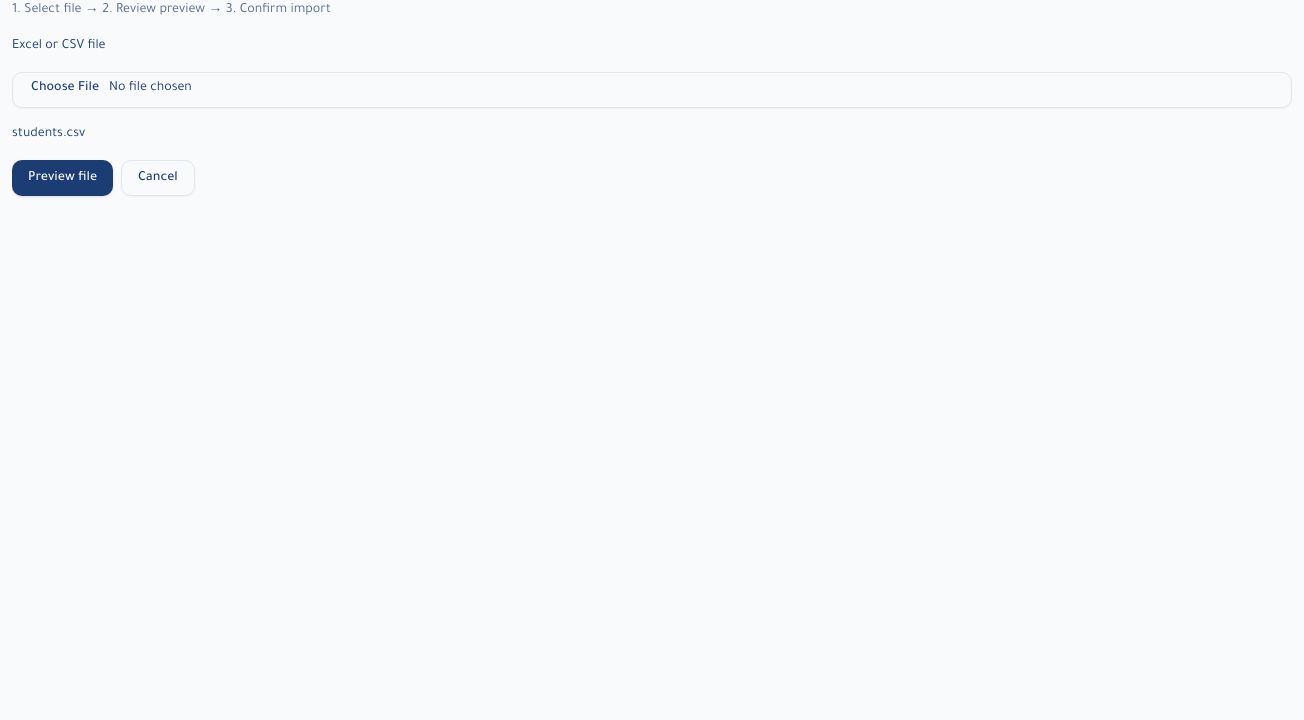
Scenario: mandatory external import review › blocks for a row error outside the visible page and for global errors regardless of can_confirm
This screenshot has width=1304, height=720.
Earlier steps of the test are not shown.
Click the button "Preview file".
click(63, 178)  # box [12, 160, 113, 196]
(page scrolled)
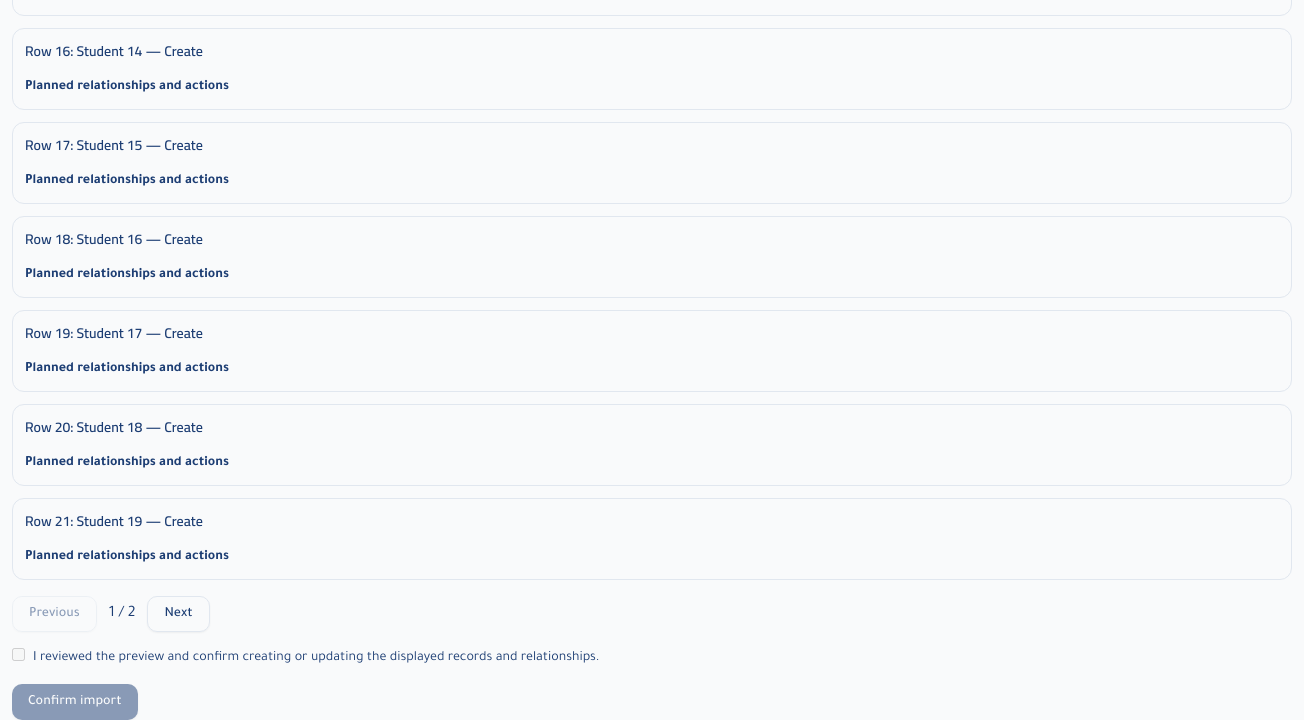
Expected: the text "bad identity" is not shown
Result: the button "Confirm import" is disabled at [12, 684, 138, 719]
Click the button "Next".
click(179, 614)  # box [147, 596, 210, 632]
(page scrolled)
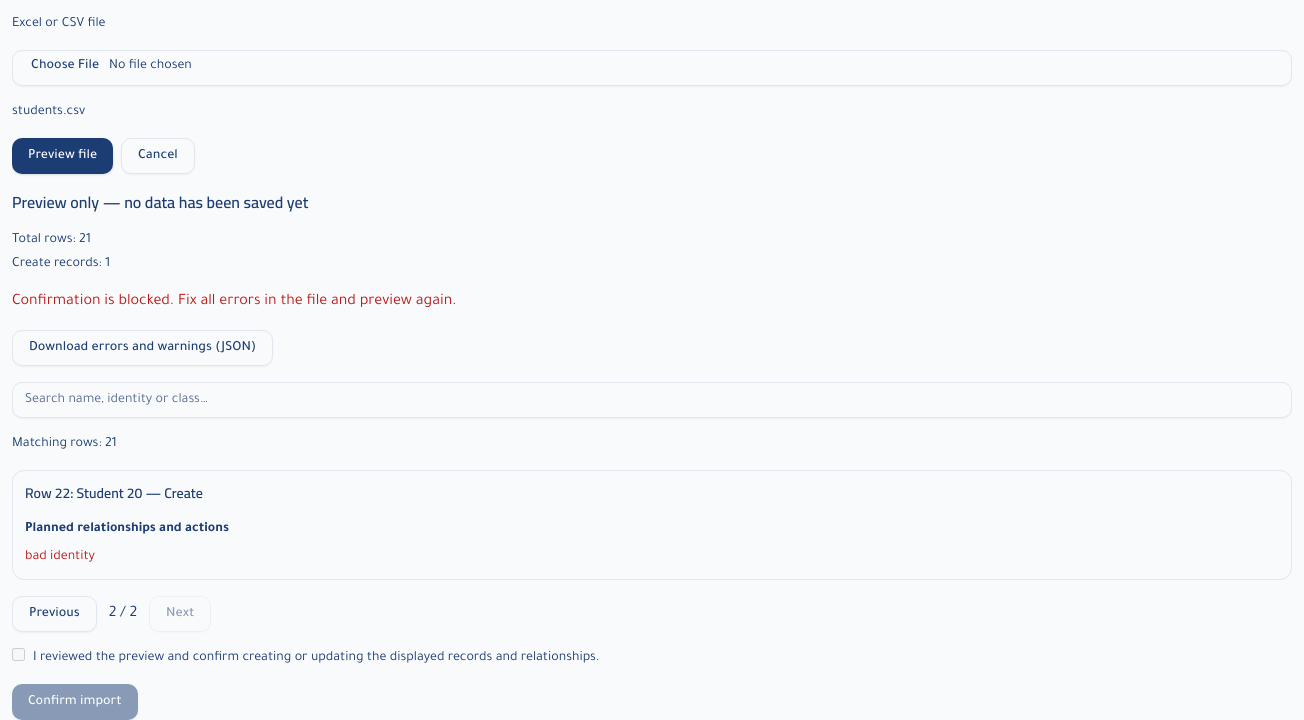
Result: the text "bad identity" is shown at [25, 550, 95, 564]
